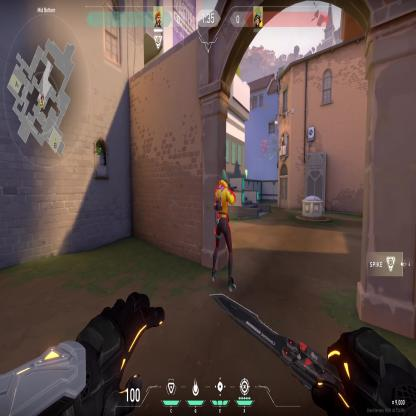enemy: (208, 167, 238, 294)
